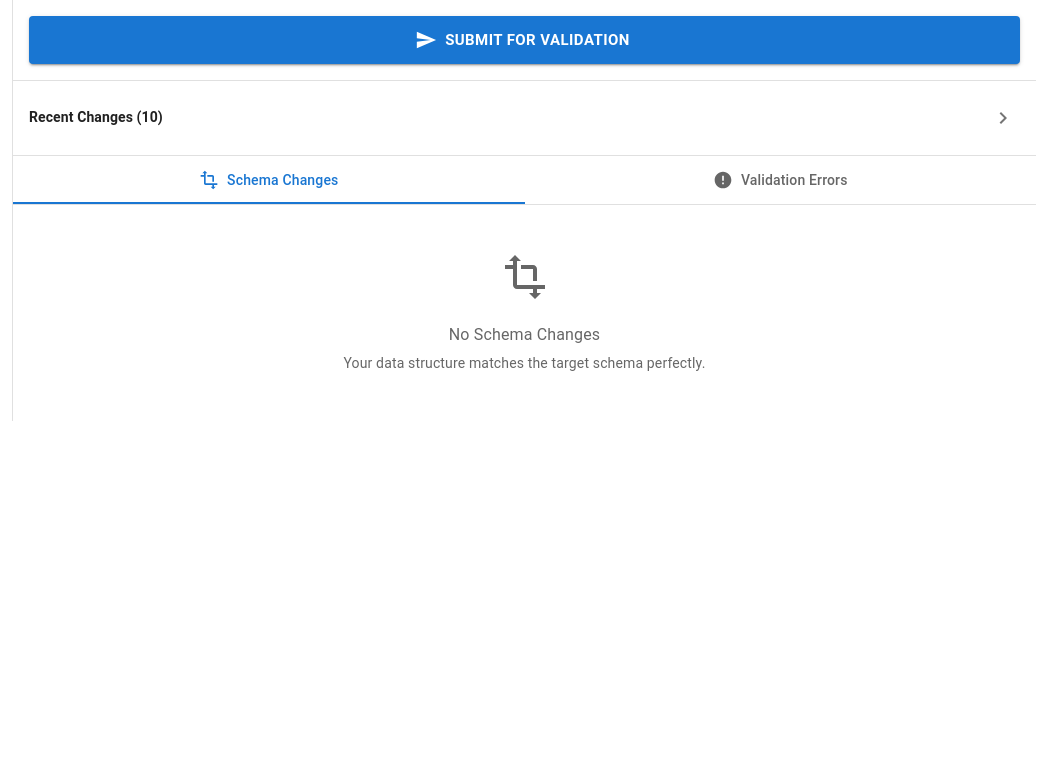
Test case: ValidationSidebarComponent › limits recent changes to last 5 items
Check: the heading "Recent Changes (10)" is shown, box left=29, top=107, right=163, bottom=129
Recent Changes is collapsed by default, need to expand it
Click the button named "Expand Recent Changes section" at {"x": 85, "y": 117}, box left=25, top=97, right=1024, bottom=139
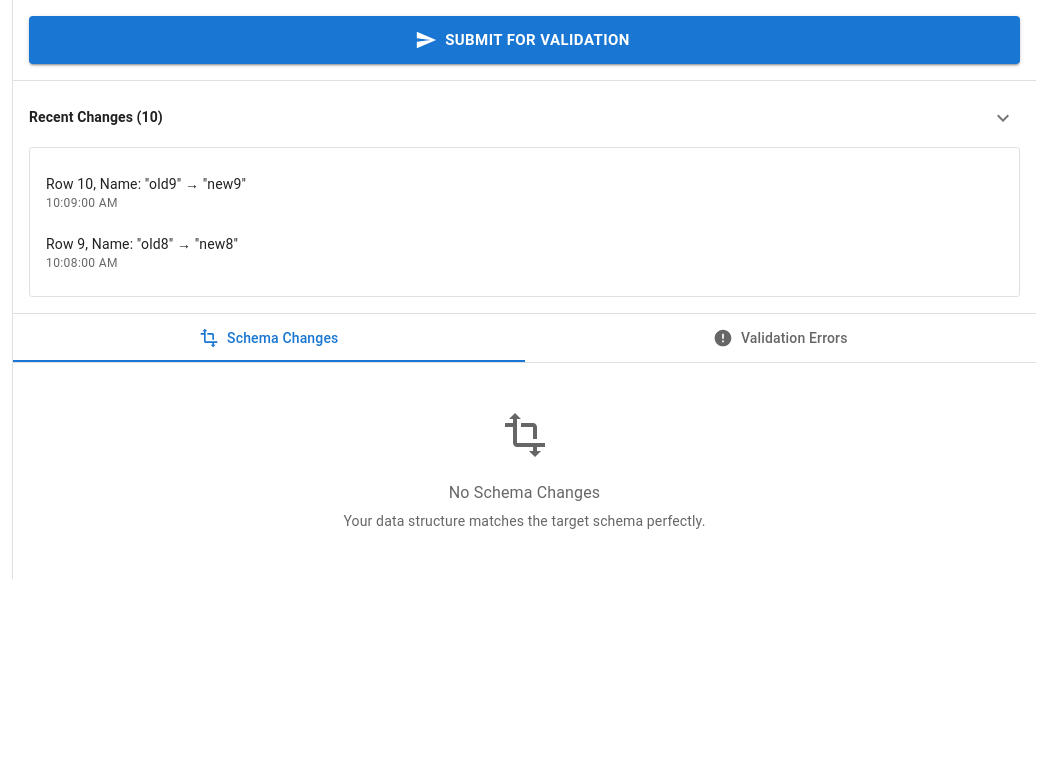
Check: the text "Row 10, Name: \"old9\" → \"new9\"" is shown, box left=46, top=176, right=246, bottom=192
Check: the text "Row 9, Name: \"old8\" → \"new8\"" is shown, box left=46, top=236, right=238, bottom=252
